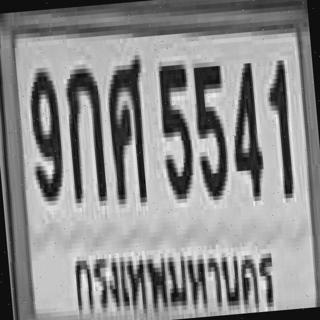A01: (62, 63, 107, 199)
A38: (103, 53, 150, 202)
N01: (264, 56, 294, 194)
N04: (224, 58, 264, 198)
N05: (189, 57, 229, 196), (155, 60, 194, 195)
N09: (24, 62, 64, 198)
P04: (68, 223, 281, 320)
